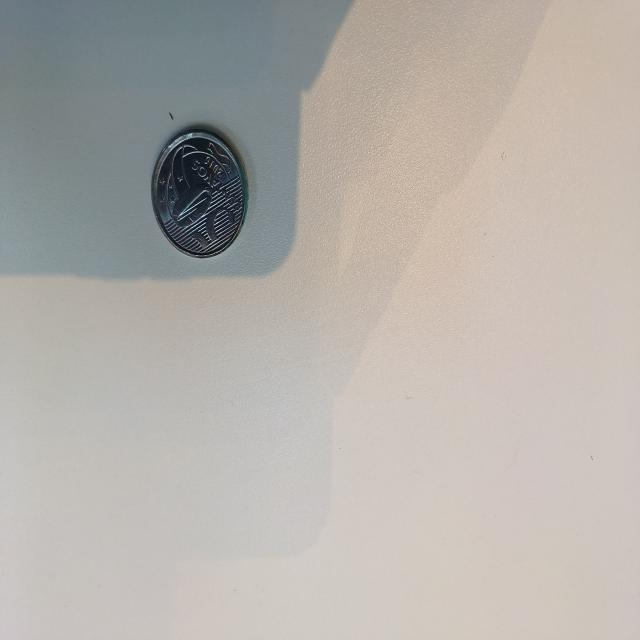50 cents: (148, 118, 254, 263)
